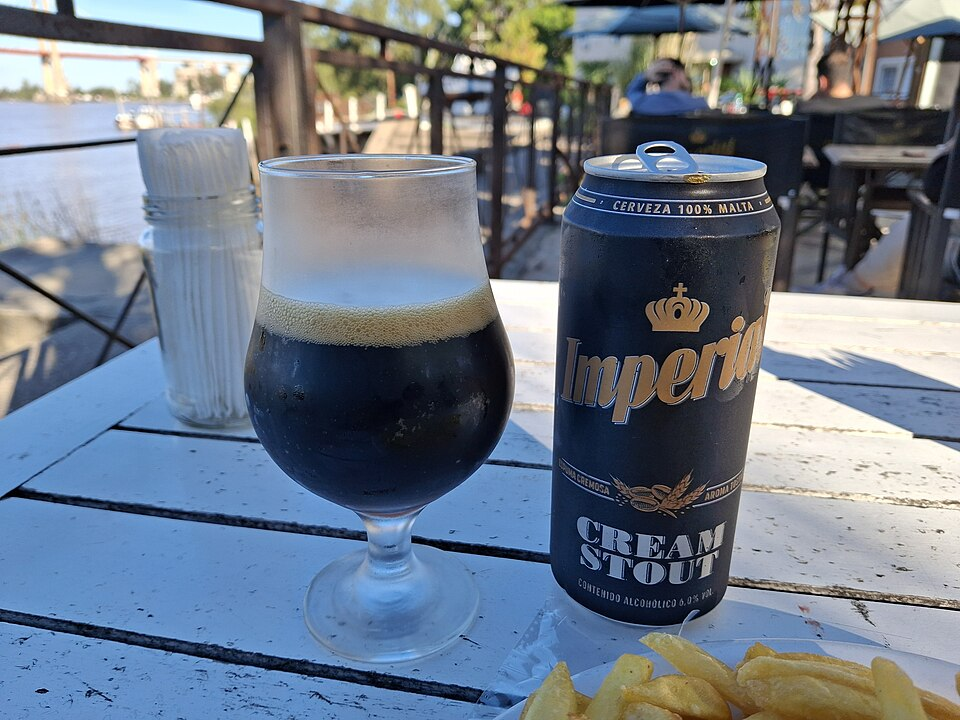beer-can: (538, 144, 788, 639)
